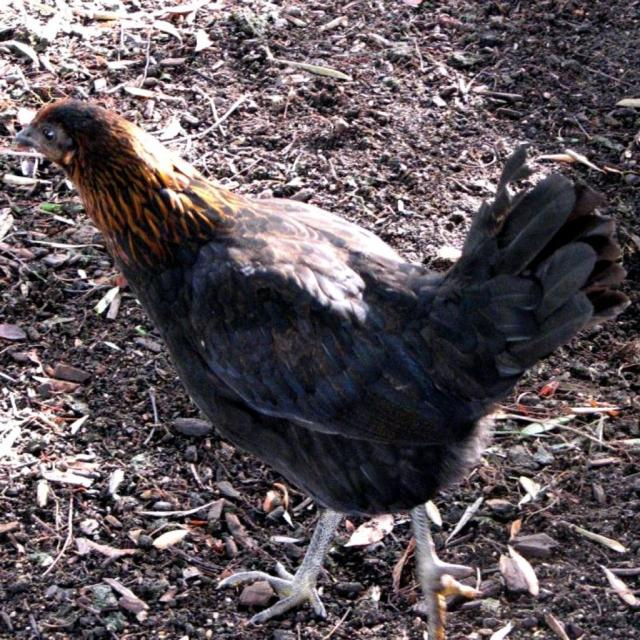Chicken: (14, 106, 627, 640)
